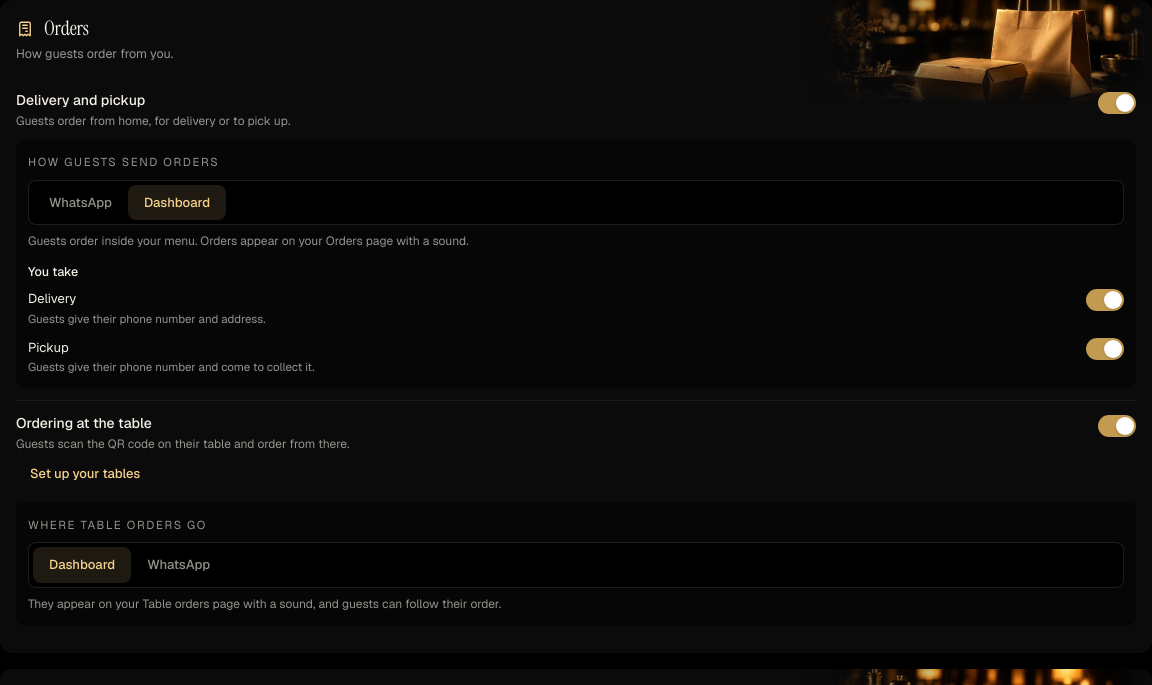
Test: FeaturesPage › ordering at the table › sends table orders to WhatsApp, apart from delivery and pickup
The image size is (1152, 685).
Expected: the text "They appear on your Table orders page" is shown, [28,596,501,612]
Step 1. Click the tab "WhatsApp" below "Where table orders go" → (179, 565), box [131,547,226,583]
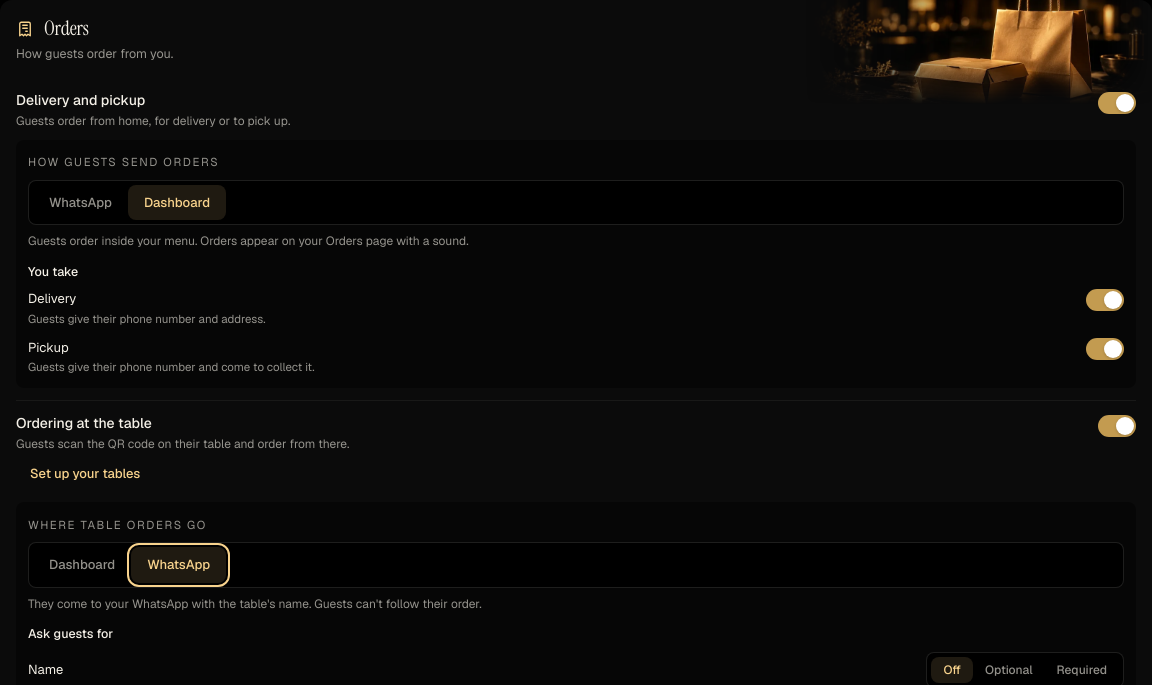
Now the text "with the table's name" is shown, box [28,596,482,612]
